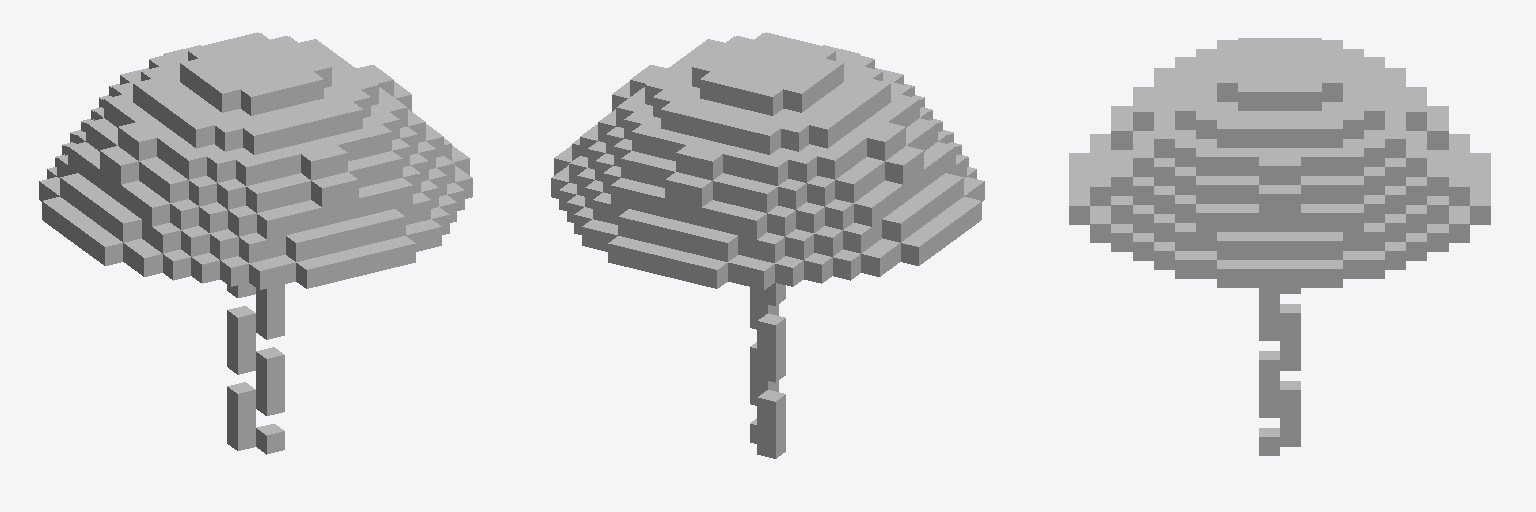
The model's file is parachute rose.obj.
The picture shows the model from 3 angles: view 1: azimuth 30°, elevation 25°; view 2: azimuth 150°, elevation 25°; view 3: azimuth 270°, elevation 25°; orthographic projection.
Parts seen in each view (by area): view 1: object 1; view 2: object 1; view 3: object 1.
Part boxes in pixels (x1,y1,x2,y2): object 1: (39, 32, 472, 454); object 1: (551, 32, 984, 458); object 1: (1069, 38, 1490, 455).
Bounding box in the file's own units: 2 × 2 × 2.